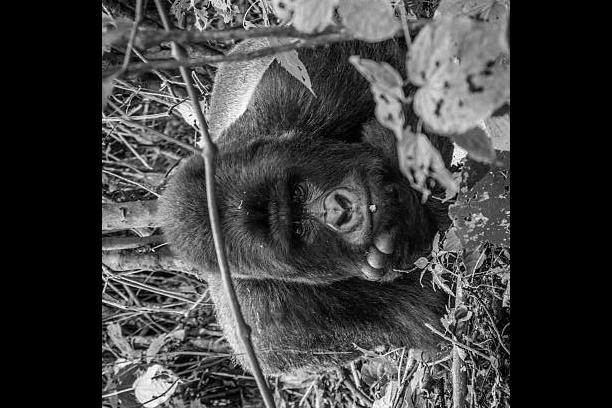goriile_montagne: (151, 0, 437, 376)
